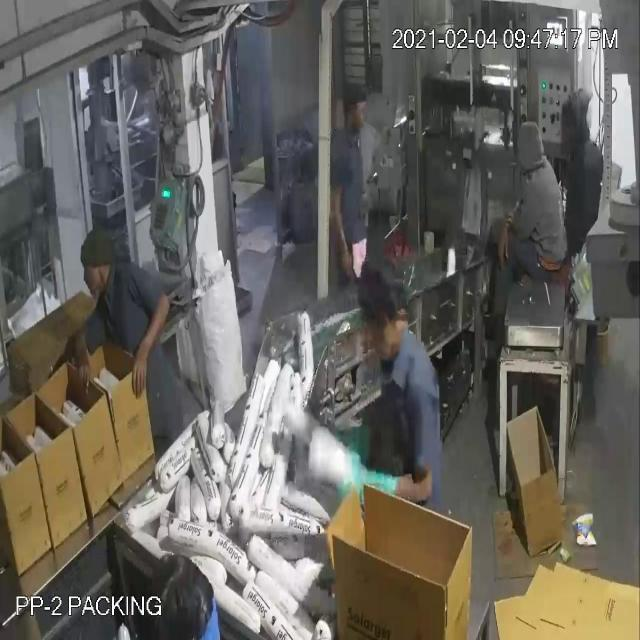No_Gloves: (34, 74, 363, 484)
